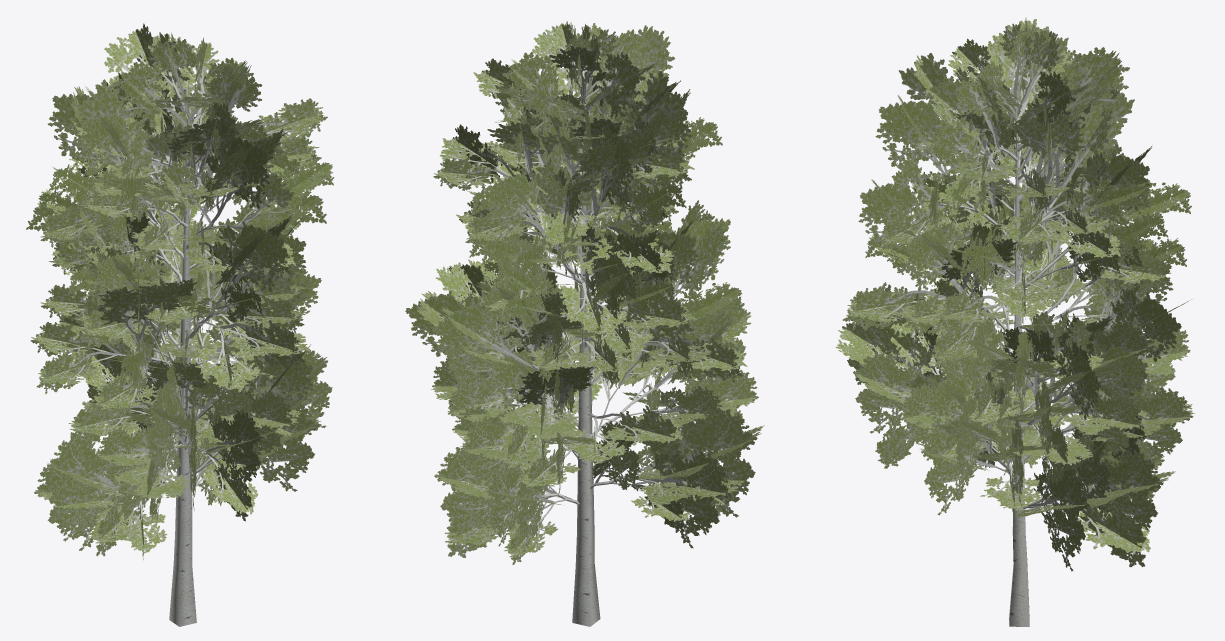
The model's file is PopulusTremuloides.glb.
3 renders of one model, left to right at view 1: azimuth 30°, elevation 25°; view 2: azimuth 150°, elevation 25°; view 3: azimuth 270°, elevation 25°, orthographic. The views are drawn at different scales.
Parts seen in each view (by area): view 1: White_Poplar__Realistic_LOD3; view 2: White_Poplar__Realistic_LOD3; view 3: White_Poplar__Realistic_LOD3.
Boxes of the visible parts, x1=… form: White_Poplar__Realistic_LOD3: x1=26, y1=23, x2=334, y2=626; White_Poplar__Realistic_LOD3: x1=405, y1=21, x2=764, y2=626; White_Poplar__Realistic_LOD3: x1=835, y1=18, x2=1194, y2=626.
Size of the model in its own units: 10.87 by 18.53 by 11.04.
Materials: 1 (1 with a texture image).
